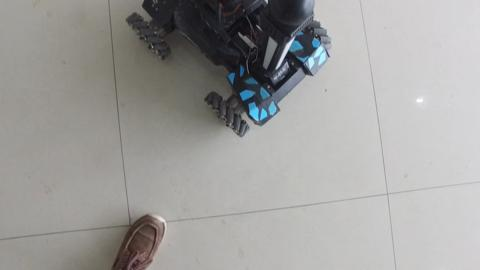chariot: (114, 2, 342, 128)
